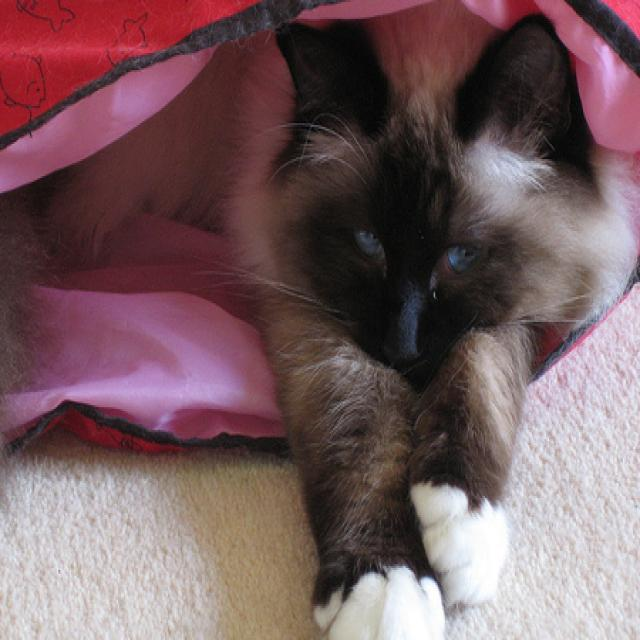Birman: (148, 0, 636, 640)
